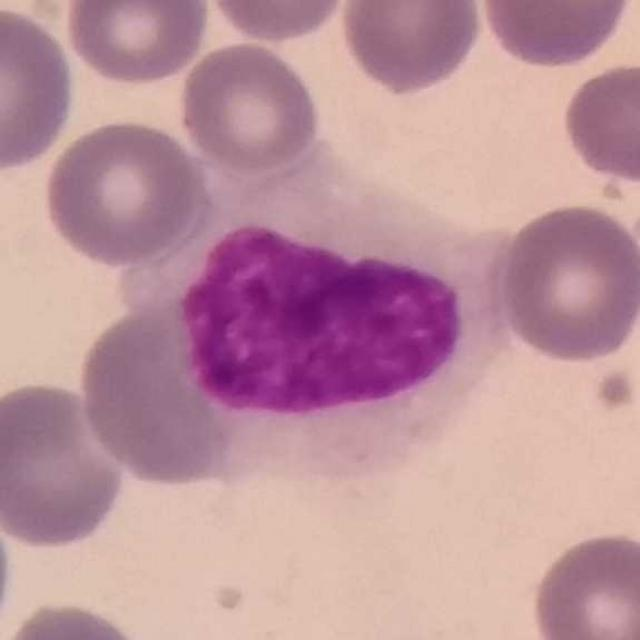Monocyte: (128, 148, 512, 489)
RBC: (71, 295, 262, 490), (40, 115, 208, 267), (494, 199, 640, 365), (0, 376, 130, 552), (175, 38, 325, 176), (335, 0, 486, 98), (0, 3, 79, 177), (61, 0, 213, 88), (526, 526, 640, 640), (475, 0, 637, 71), (557, 57, 640, 189), (1, 596, 157, 640), (202, 0, 352, 45), (0, 488, 16, 640)
